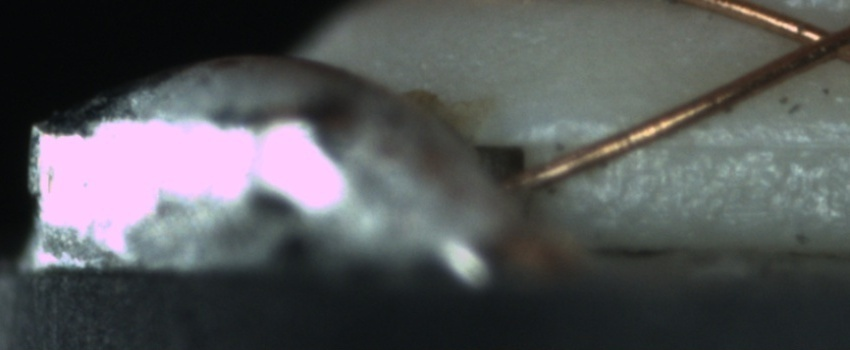CL: (775, 12, 850, 72)
DL: (605, 114, 849, 175)
